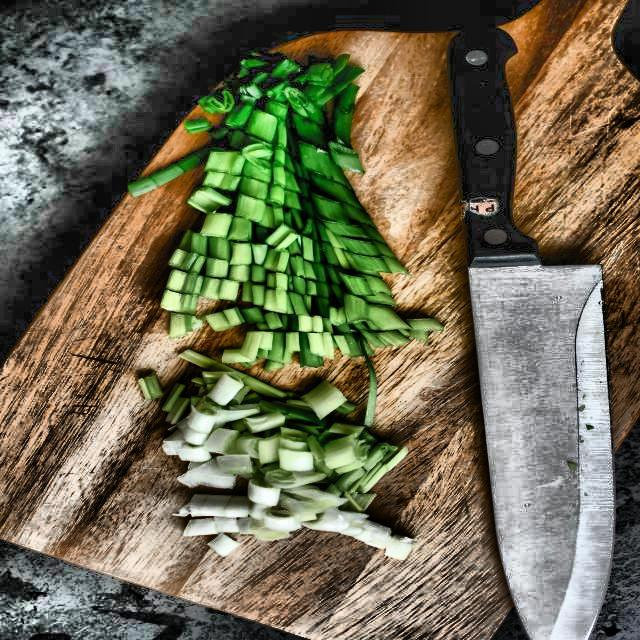knife: (436, 19, 636, 640)
